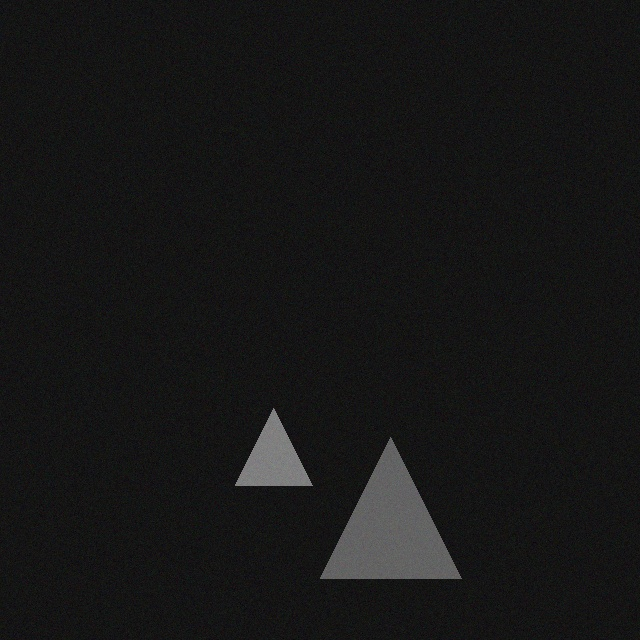triangle: (309, 430, 450, 571), (224, 401, 301, 478)
